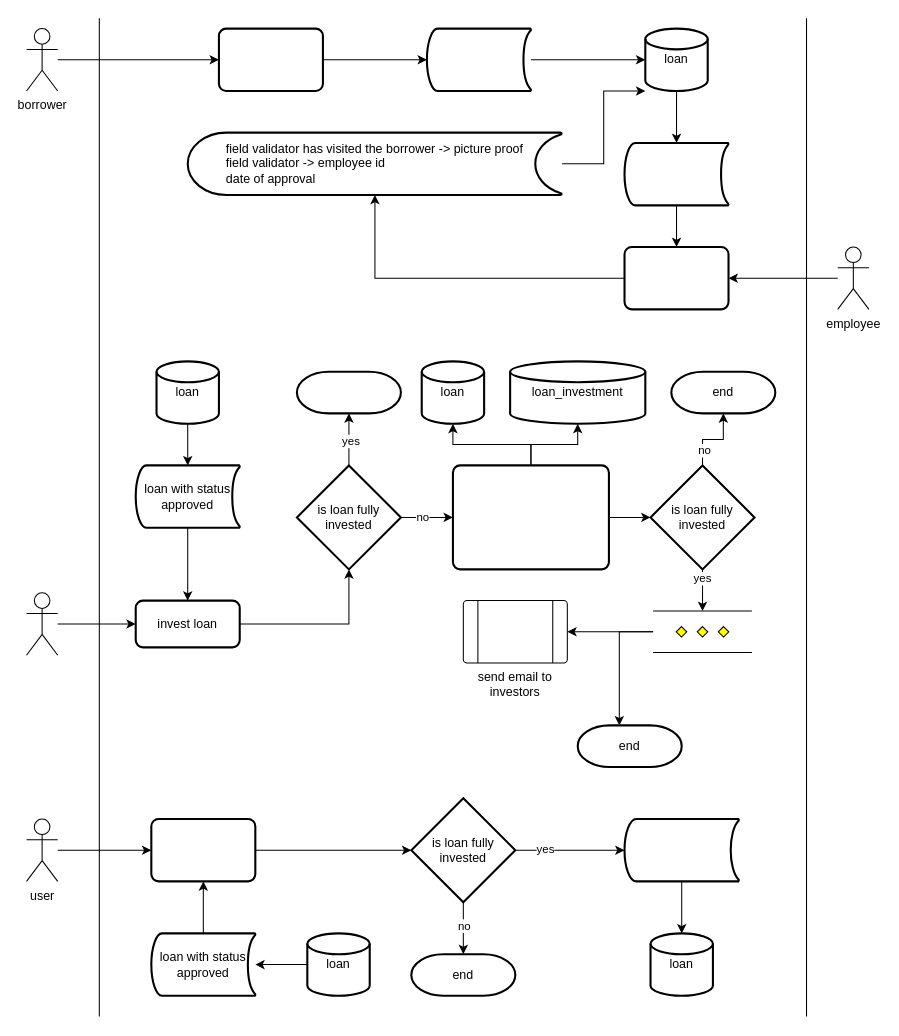
The diagram is 899 pixels wide and 1036 high, and some of its shapes have lost their labels. The box of each missing label's shape, as (x1, y1, x2, y2) in pixels:
approve a loan: (623, 245, 729, 310)
async process: (652, 610, 752, 653)
disburse loan: (150, 817, 256, 882)
investor: (25, 592, 58, 655)
loan with status proposed: (623, 141, 729, 206)
propose loan: (217, 27, 323, 92)
reject invest: (295, 370, 401, 414)
save loan_investment data and update loan total investment: (451, 464, 609, 570)
store loan with status proposed: (425, 27, 531, 92)
update loan status to disburse: (623, 817, 739, 882)
